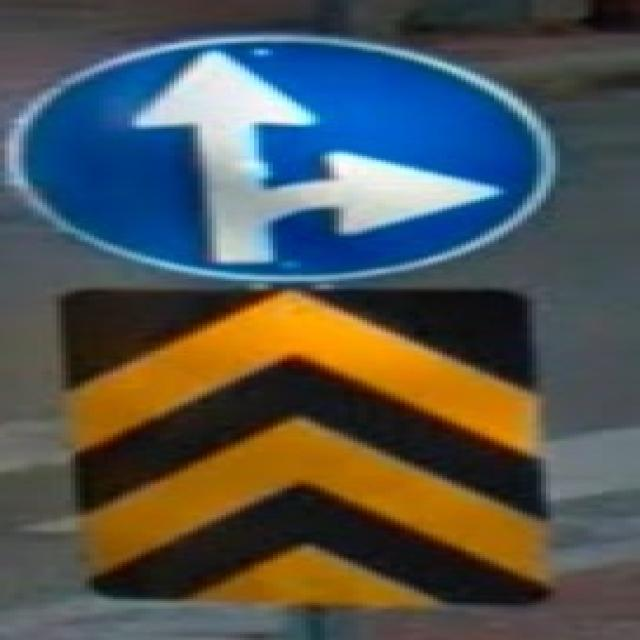Straight or Right: (13, 35, 559, 285)
